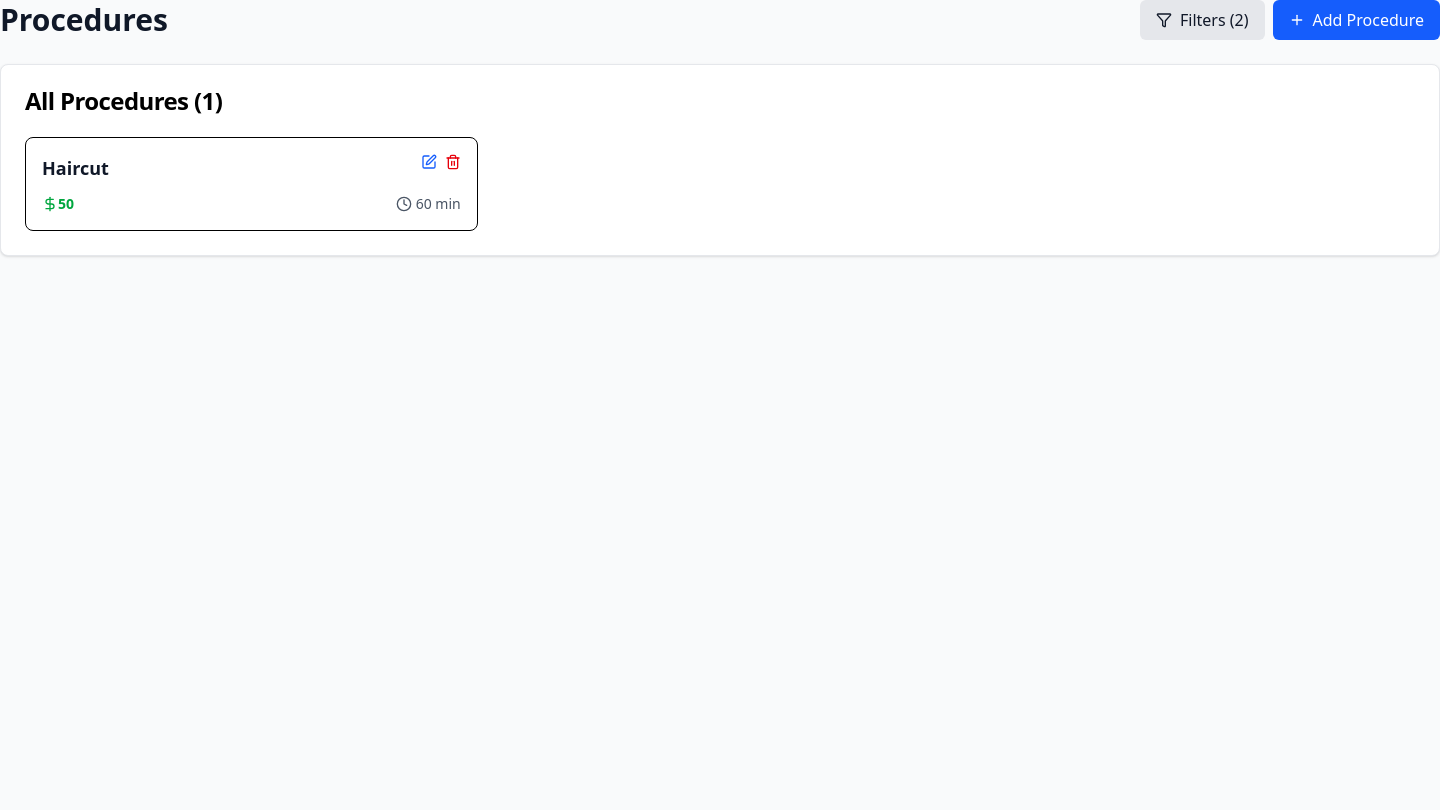
Test: Procedures Component › opens create modal when Add Procedure button is clicked
The image size is (1440, 810).
Expected: the heading "Haircut" is shown, [42,154,109,182]
Click the button "Add Procedure" at (1356, 20), box [1272,0,1439,40]
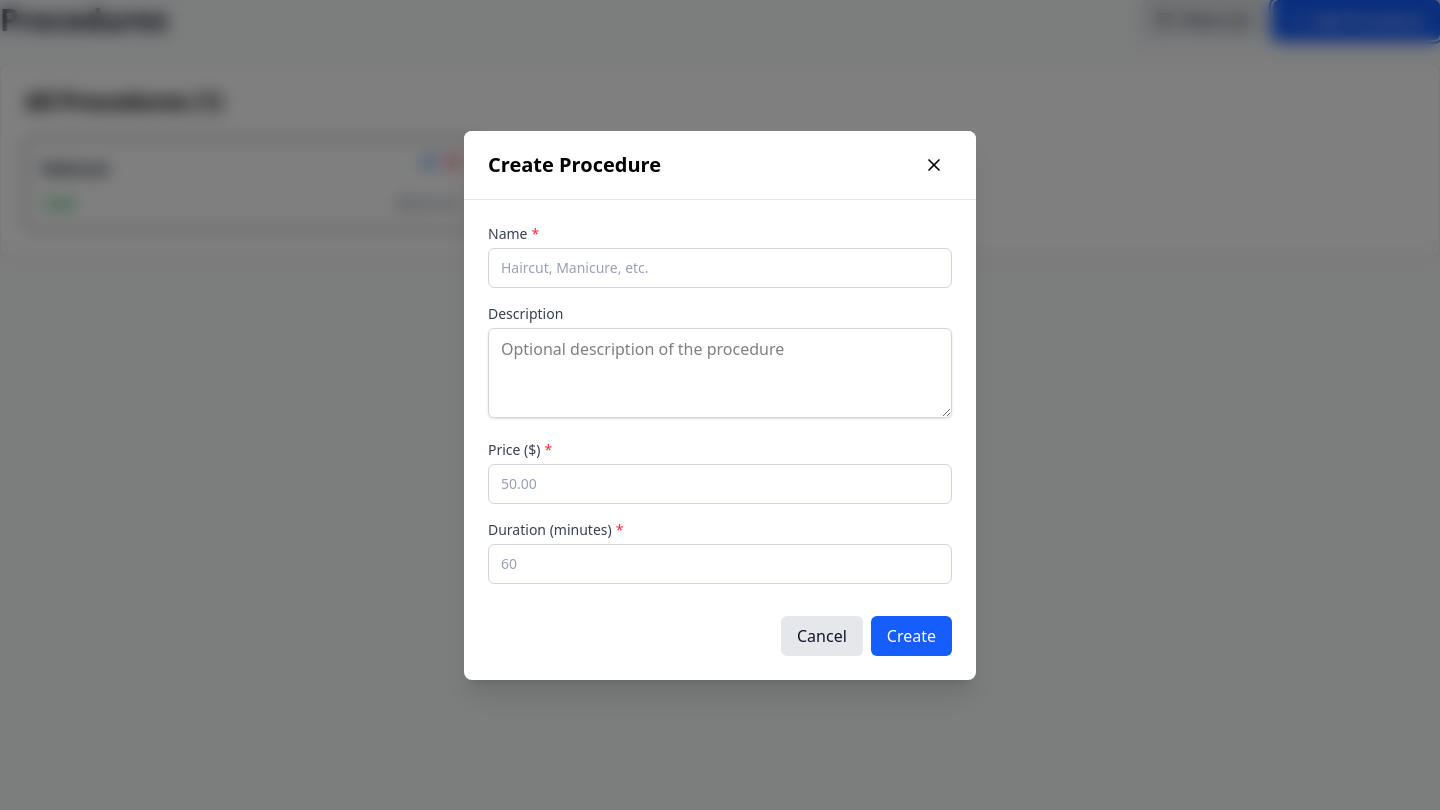
Expected: the heading "Create Procedure" is shown, [488,150,661,178]
